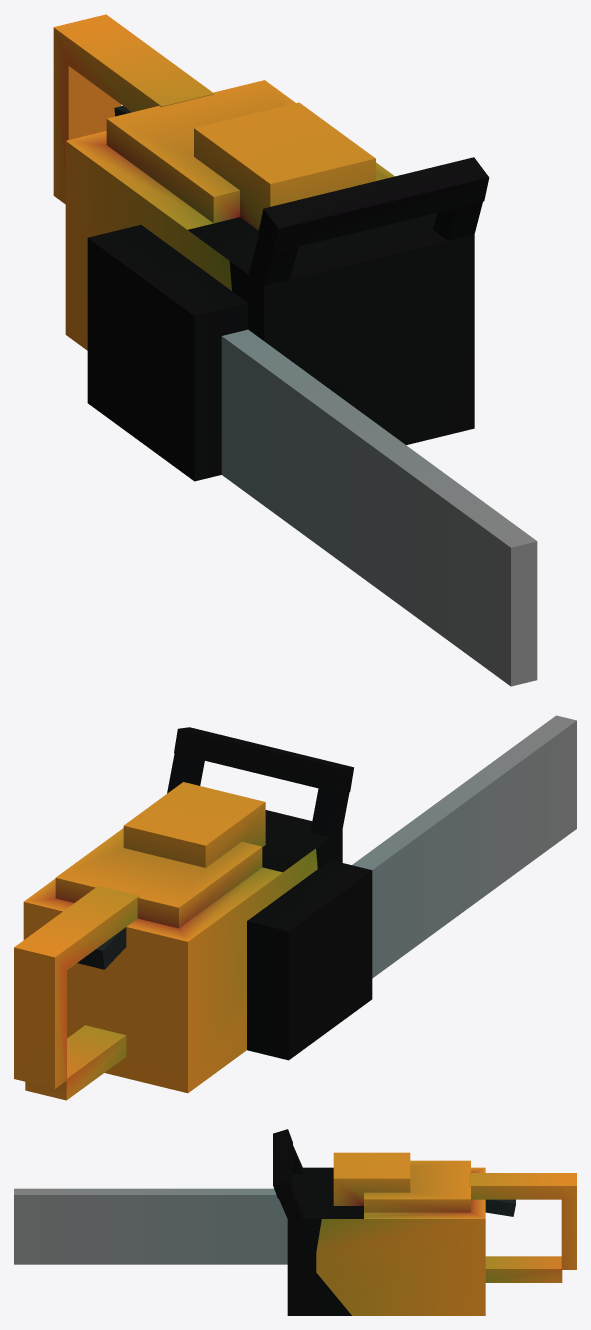
The picture shows the model from 3 angles, top to bottom: view 1: azimuth 30°, elevation 25°; view 2: azimuth 150°, elevation 25°; view 3: azimuth 270°, elevation 25°; orthographic projection. The views are drawn at different scales.
Parts seen in each view (by area): view 1: black_root, blade, orange_housing, upright, upper_rail; view 2: orange_housing, blade, black_root, upper_rail, upright, inner_sloping_strip; view 3: orange_housing, blade, upper_rail, black_root, upright, inner_sloping_strip.
Part boxes in pixels (x1,y1,x2,y2): black_root: [87, 213, 474, 481]; blade: [221, 329, 537, 686]; orange_housing: [65, 80, 394, 350]; upright: [242, 157, 489, 331]; upper_rail: [53, 14, 214, 204]; orange_housing: [23, 782, 317, 1093]; blade: [352, 715, 576, 978]; black_root: [247, 810, 372, 1060]; upper_rail: [14, 885, 139, 1100]; upright: [167, 727, 353, 862]; inner_sloping_strip: [77, 927, 126, 969]; orange_housing: [316, 1152, 485, 1315]; blade: [14, 1188, 287, 1264]; upper_rail: [469, 1173, 576, 1282]; black_root: [287, 1167, 363, 1315]; upright: [273, 1129, 316, 1254]; inner_sloping_strip: [485, 1199, 515, 1216].
Size of the model in its own units: 0.1355 by 0.1327 by 0.4998.
